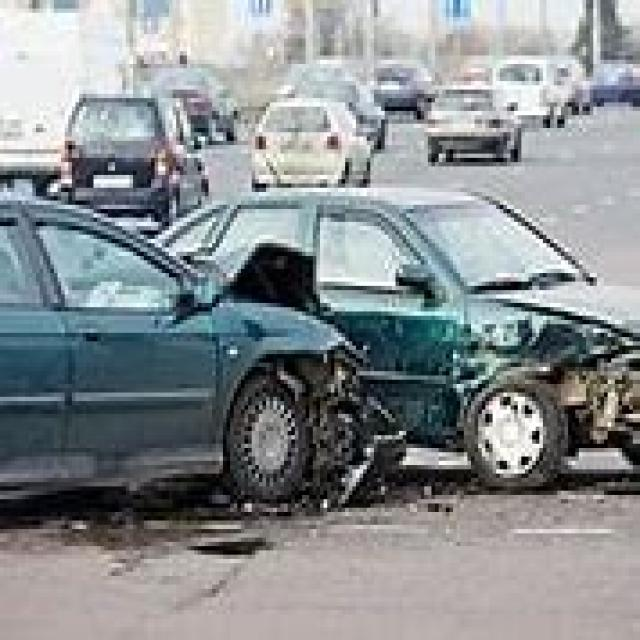Accident: (114, 124, 640, 545)
